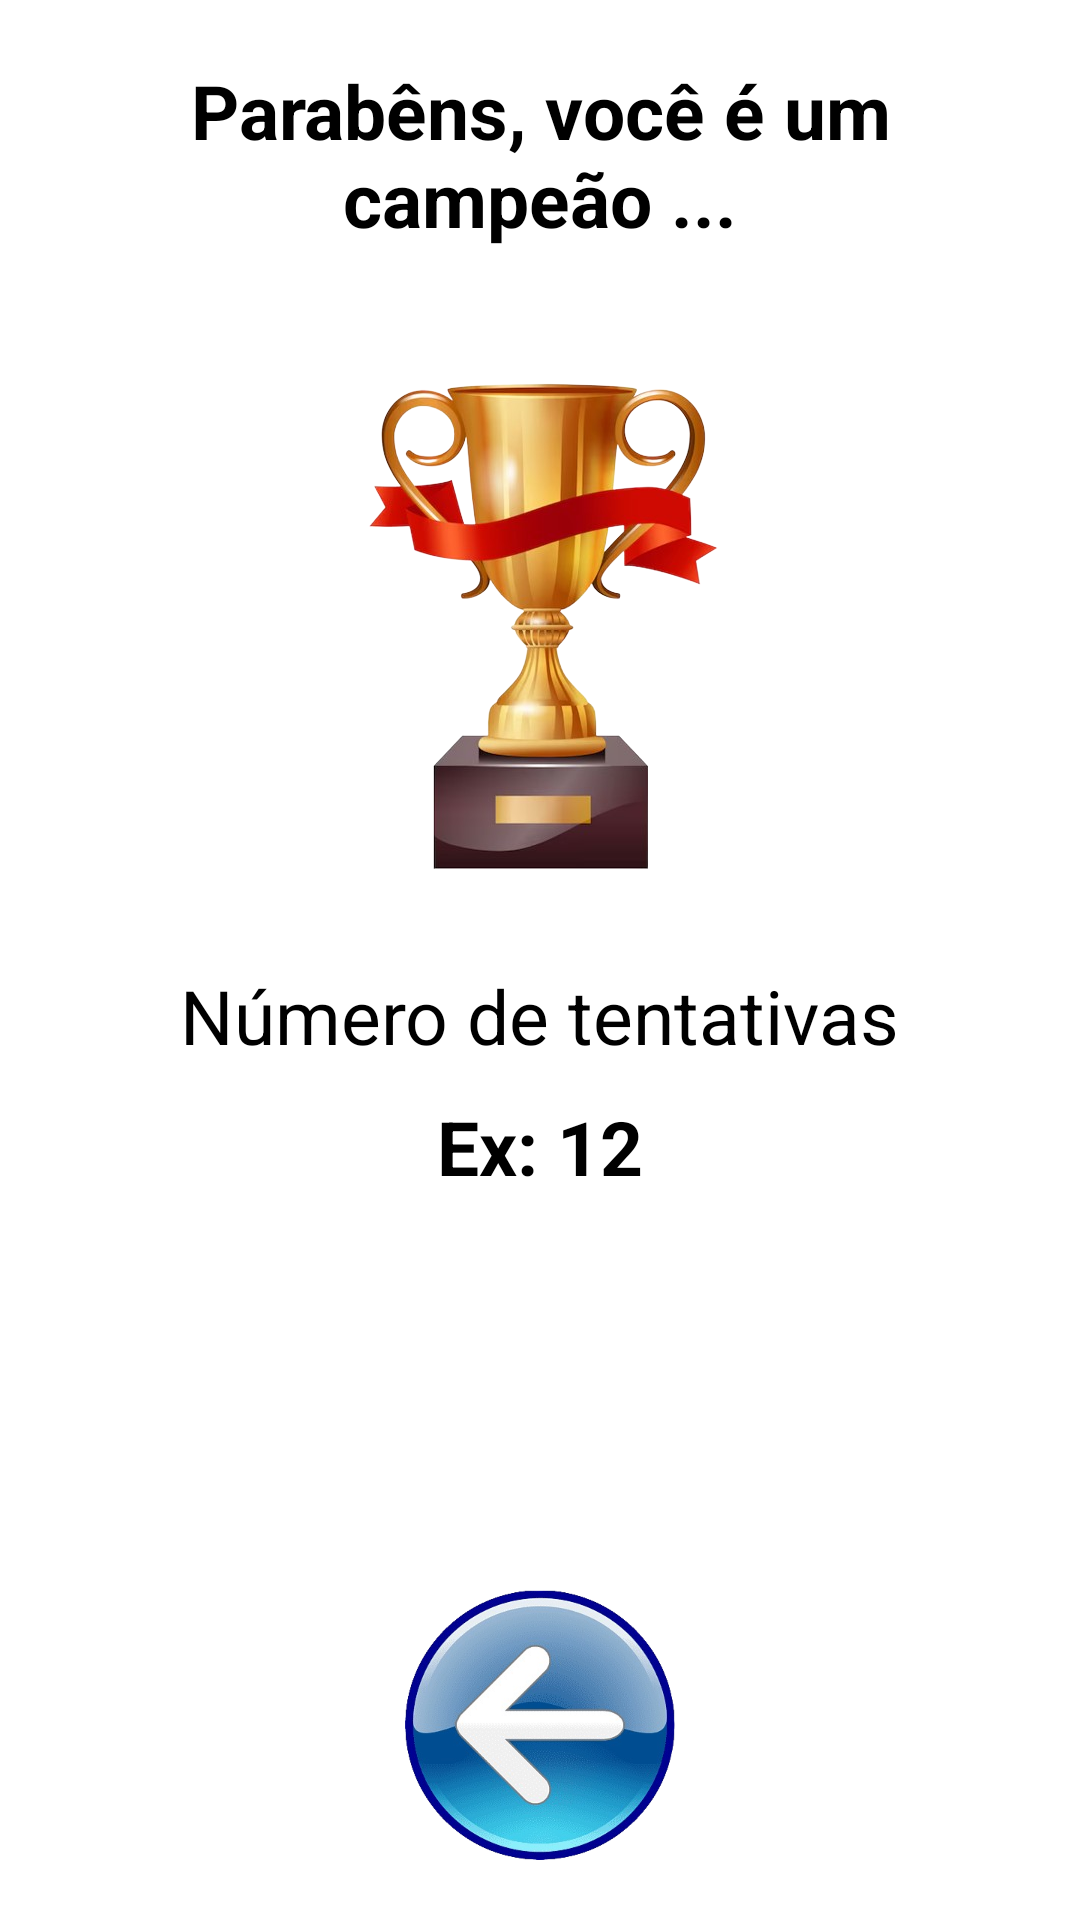

Icon bounding boxes for this 1080*1920 phone screenshot, format (x1, y1, x2, y2):
voltar: (405, 1590, 675, 1860)
